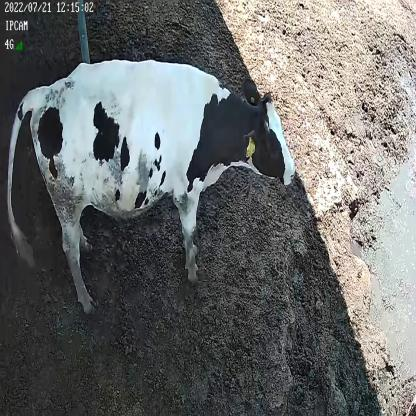cow: (7, 56, 297, 312)
